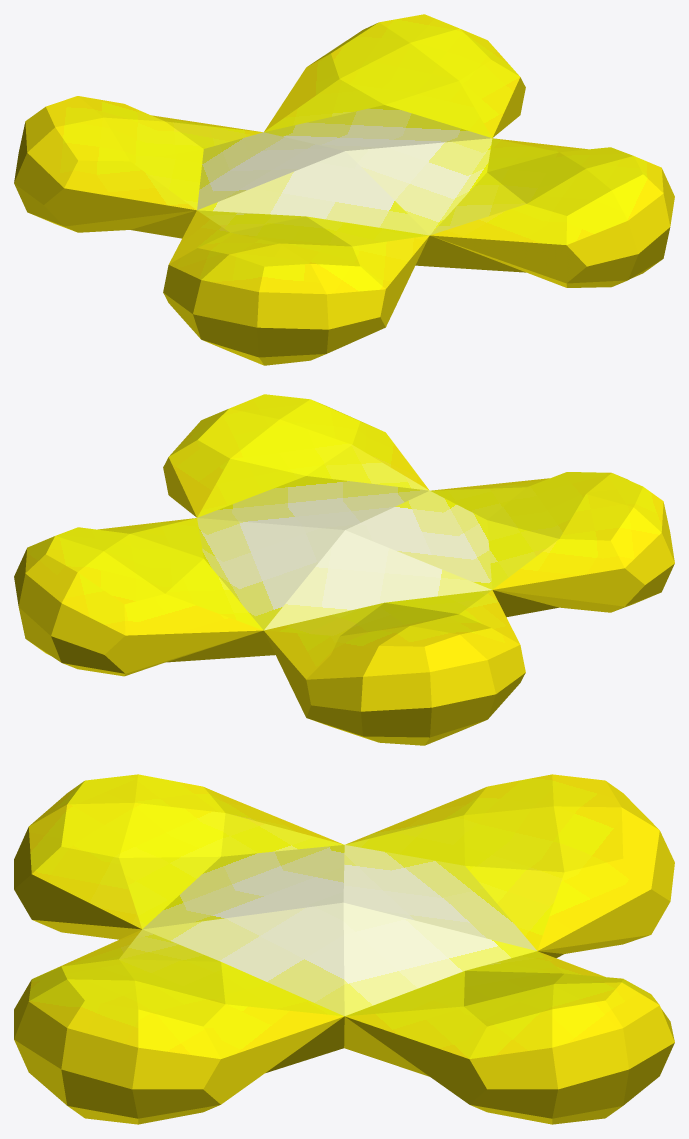
The model's file is flower.gltf.
3 renders of one model, top to bottom at view 1: azimuth 30°, elevation 25°; view 2: azimuth 150°, elevation 25°; view 3: azimuth 270°, elevation 25°, orthographic. The views are drawn at different scales.
Visible parts, largest first — view 1: flower; view 2: flower; view 3: flower.
Part boxes in pixels (x1,y1,x2,y2): flower: (14,14,674,365); flower: (14,394,674,745); flower: (14,774,674,1124).
Bounding box in the file's own units: 0.1167 × 0.0234 × 0.1164.
Materials: 1 (1 with a texture image).
